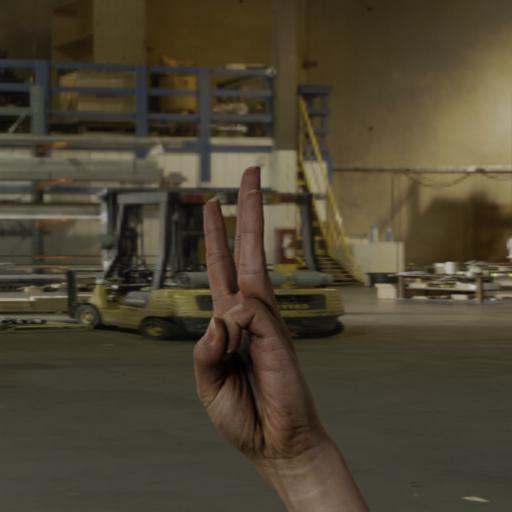W: (165, 150, 361, 465)
